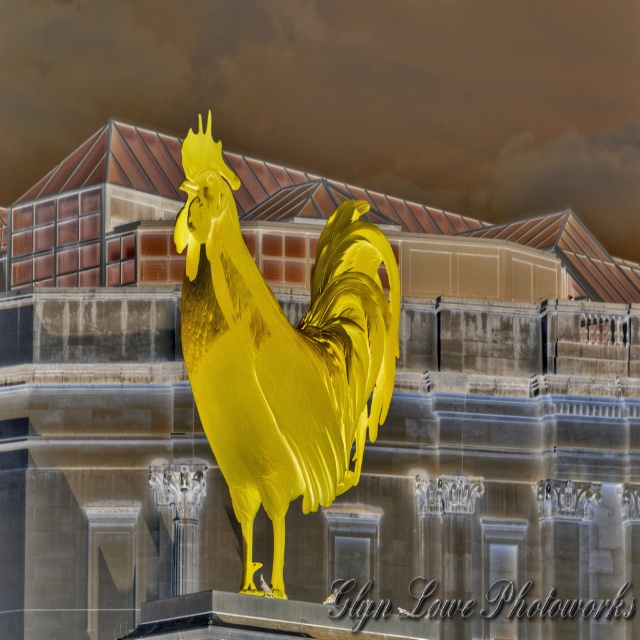Chicken: (174, 109, 404, 606)
